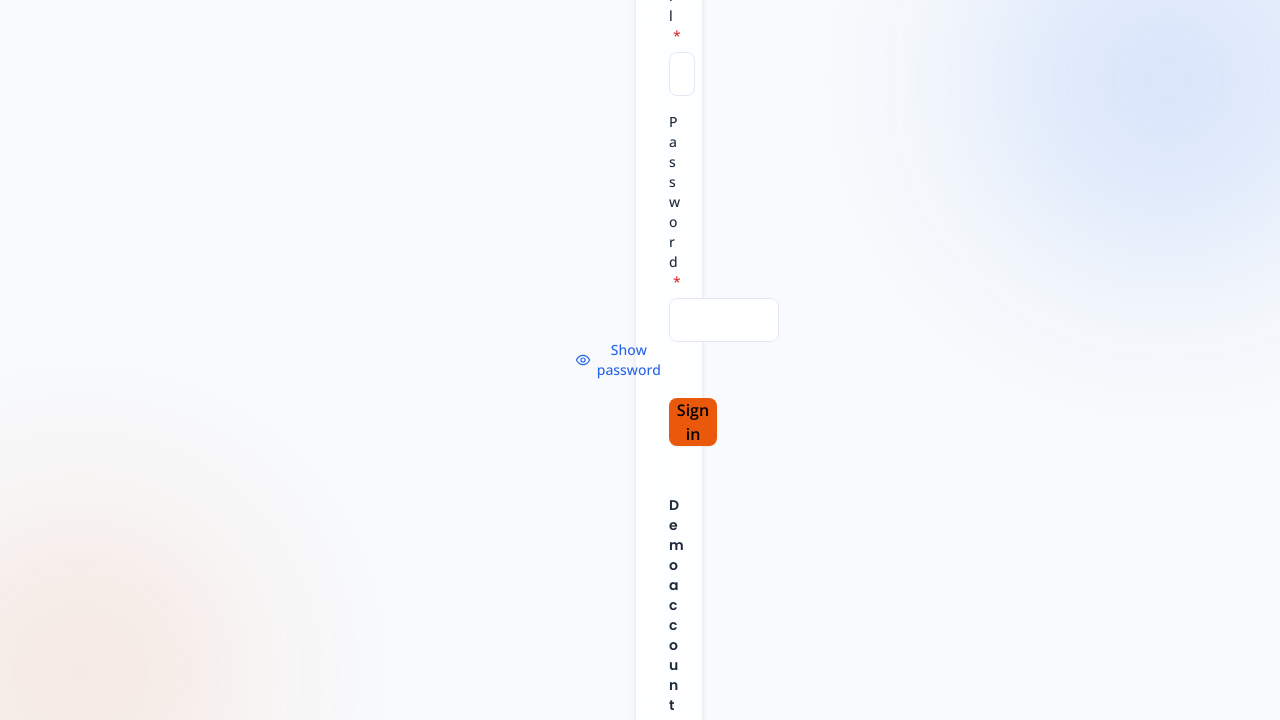
Scenario: LoginPage › toggles password visibility with an accessible button
The width and height of the screenshot is (1280, 720).
(page scrolled)
Click the button "Show password". click: {"x": 618, "y": 360}
box: [567, 338, 669, 382]
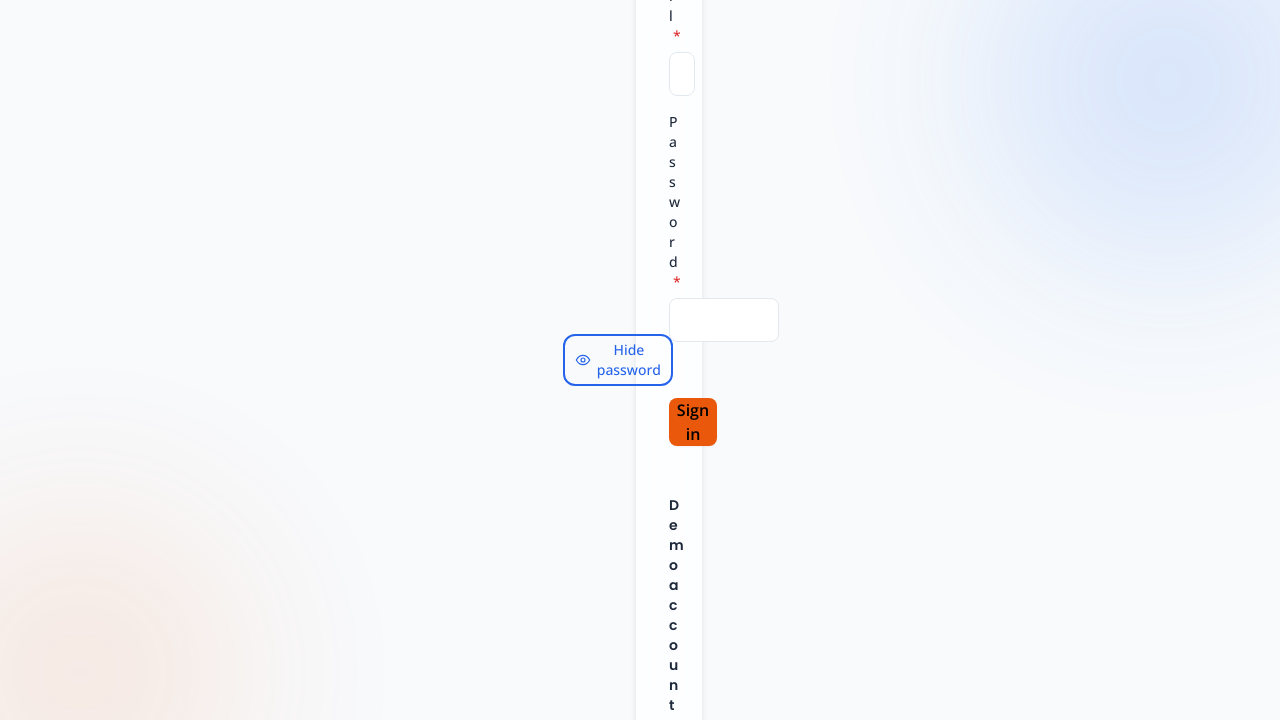
Now the button "Hide password" is shown, box [567, 338, 669, 382]
